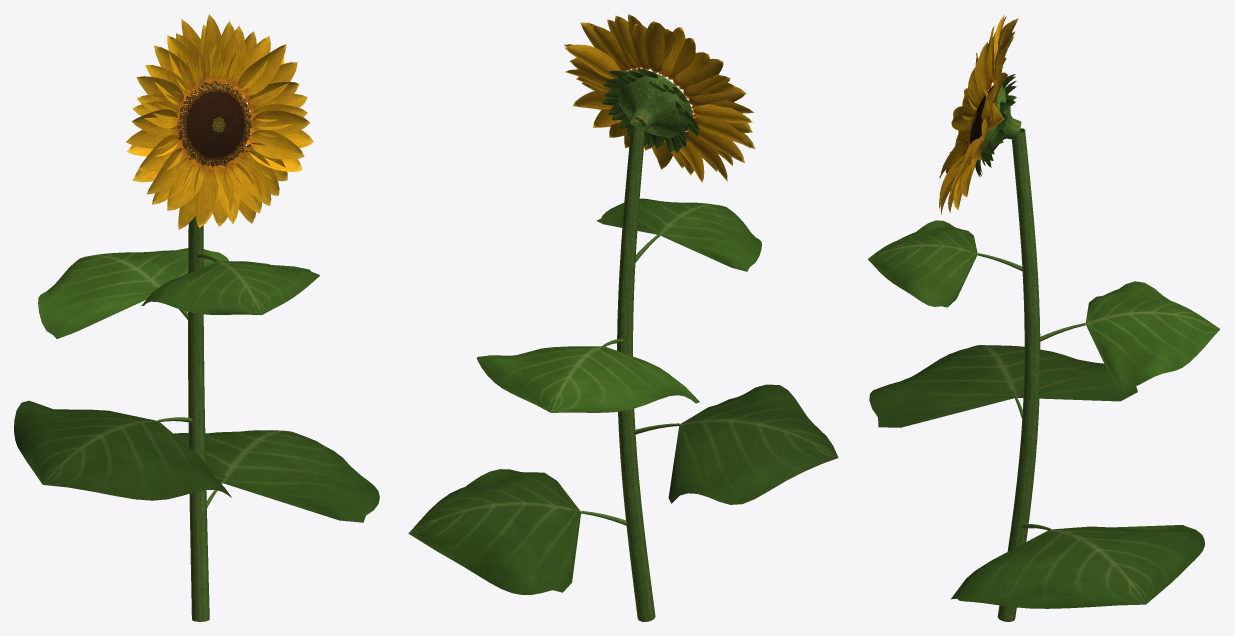
The model's file is fl-sunflower.glb.
3 renders of one model, left to right at view 1: azimuth 30°, elevation 25°; view 2: azimuth 150°, elevation 25°; view 3: azimuth 270°, elevation 25°, orthographic.
Visible parts, largest first — view 1: sunflower_sun_leaf, sunflower_sun_petal, sunflower_sun_stem, sunflower_sun_disc; view 2: sunflower_sun_leaf, sunflower_sun_petal, sunflower_sun_stem; view 3: sunflower_sun_leaf, sunflower_sun_stem, sunflower_sun_petal.
Part boxes in pixels (x1=…): sunflower_sun_leaf: x1=14, y1=80, x2=379, y2=522; sunflower_sun_petal: x1=126, y1=14, x2=313, y2=229; sunflower_sun_stem: x1=158, y1=81, x2=250, y2=621; sunflower_sun_disc: x1=177, y1=82, x2=250, y2=166; sunflower_sun_leaf: x1=408, y1=68, x2=838, y2=594; sunflower_sun_petal: x1=564, y1=14, x2=755, y2=182; sunflower_sun_stem: x1=581, y1=69, x2=692, y2=621; sunflower_sun_leaf: x1=868, y1=74, x2=1220, y2=608; sunflower_sun_stem: x1=977, y1=85, x2=1085, y2=621; sunflower_sun_petal: x1=939, y1=14, x2=1018, y2=214.
Bounding box in the file's own units: 0.4474 × 0.7403 × 0.3984.
4 materials, 4 textured.
